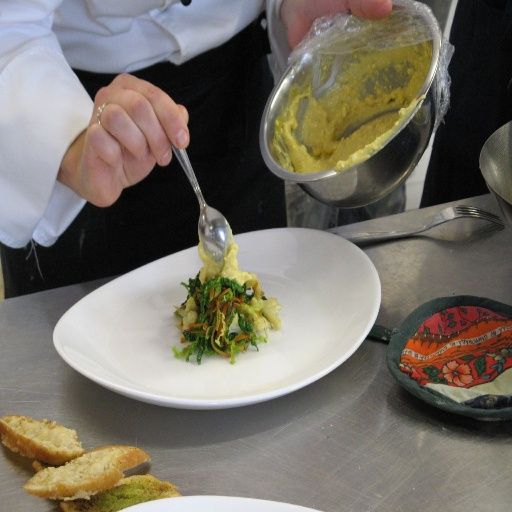hand: (72, 70, 188, 208), (282, 0, 396, 54)
